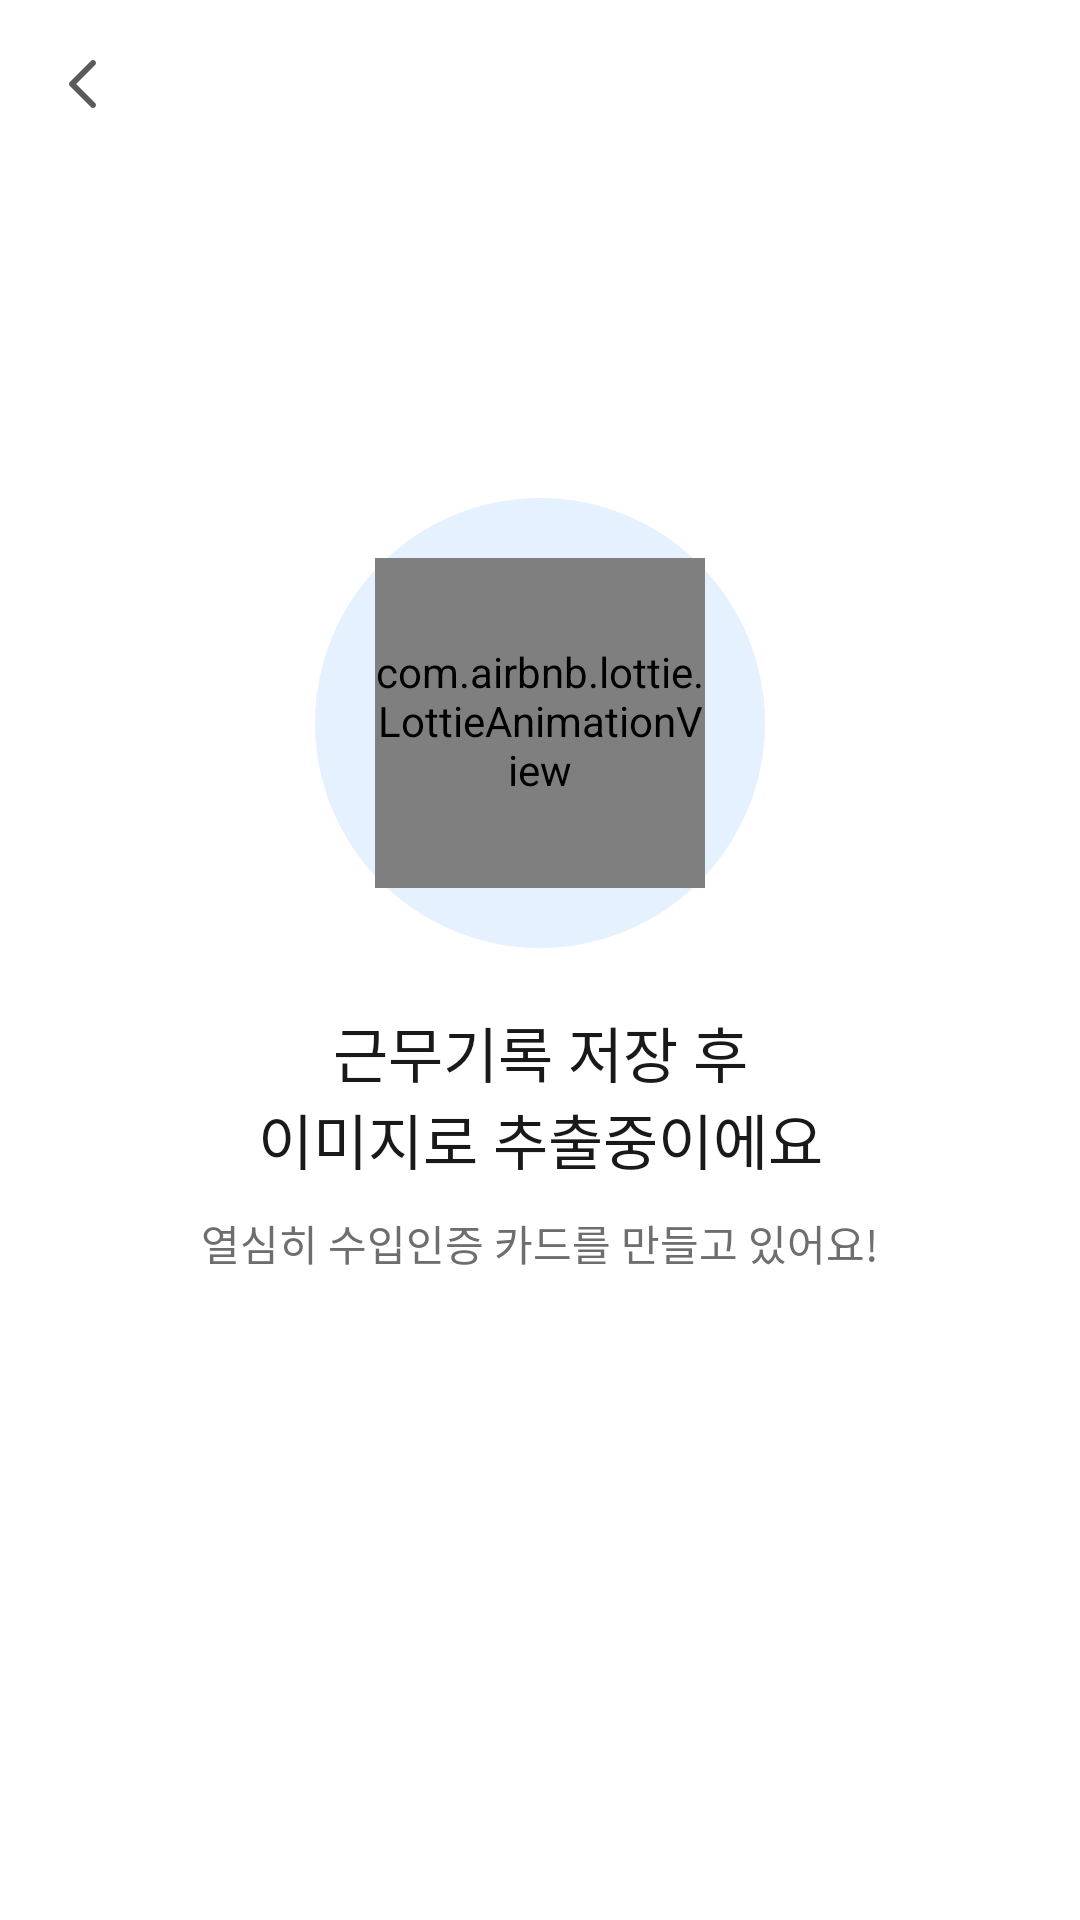

Named icons in this screenshot (1080×1920) and their centers, (x,y):
back: (82,84)
